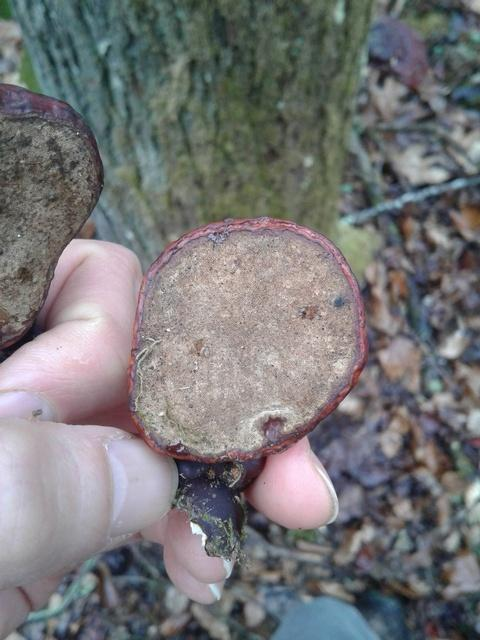poisonous_mushroom: (125, 214, 369, 560)
